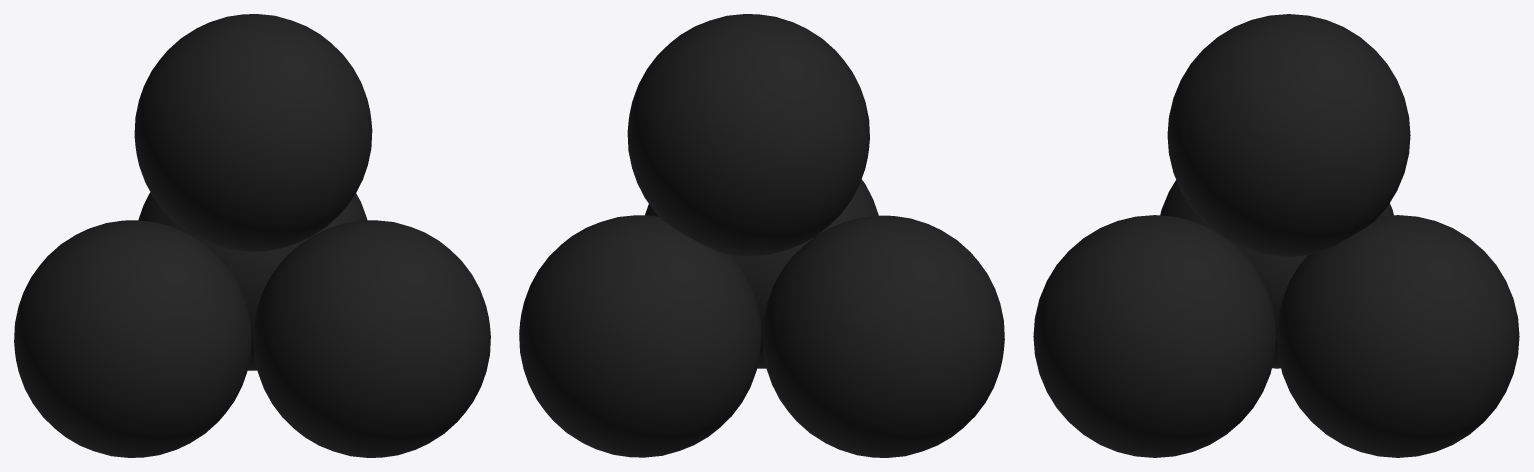
Rendered from solid_state_qn_018.glb.
3 views of the same model, side by side, from view 1: azimuth 30°, elevation 25°; view 2: azimuth 150°, elevation 25°; view 3: azimuth 270°, elevation 25° (orthographic). The views are drawn at different scales.
Visible parts, largest first — view 1: Icosphere.054, Icosphere.055, Icosphere.052, Icosphere.053; view 2: Icosphere.055, Icosphere.052, Icosphere.053, Icosphere.054; view 3: Icosphere.054, Icosphere.052, Icosphere.053, Icosphere.055.
Part boxes in pixels (x1=…): Icosphere.054: x1=253, y1=220, x2=490, y2=457; Icosphere.055: x1=14, y1=220, x2=251, y2=457; Icosphere.052: x1=134, y1=14, x2=372, y2=251; Icosphere.053: x1=138, y1=192, x2=367, y2=370; Icosphere.055: x1=762, y1=215, x2=1004, y2=457; Icosphere.052: x1=627, y1=14, x2=869, y2=256; Icosphere.053: x1=519, y1=215, x2=761, y2=457; Icosphere.054: x1=645, y1=179, x2=878, y2=368; Icosphere.054: x1=1033, y1=215, x2=1276, y2=457; Icosphere.052: x1=1167, y1=14, x2=1410, y2=256; Icosphere.053: x1=1276, y1=215, x2=1519, y2=457; Icosphere.055: x1=1160, y1=180, x2=1393, y2=368.
Size of the model in its own units: 3.74 by 3.59 by 4.
Materials: 1 (1 with a texture image).
